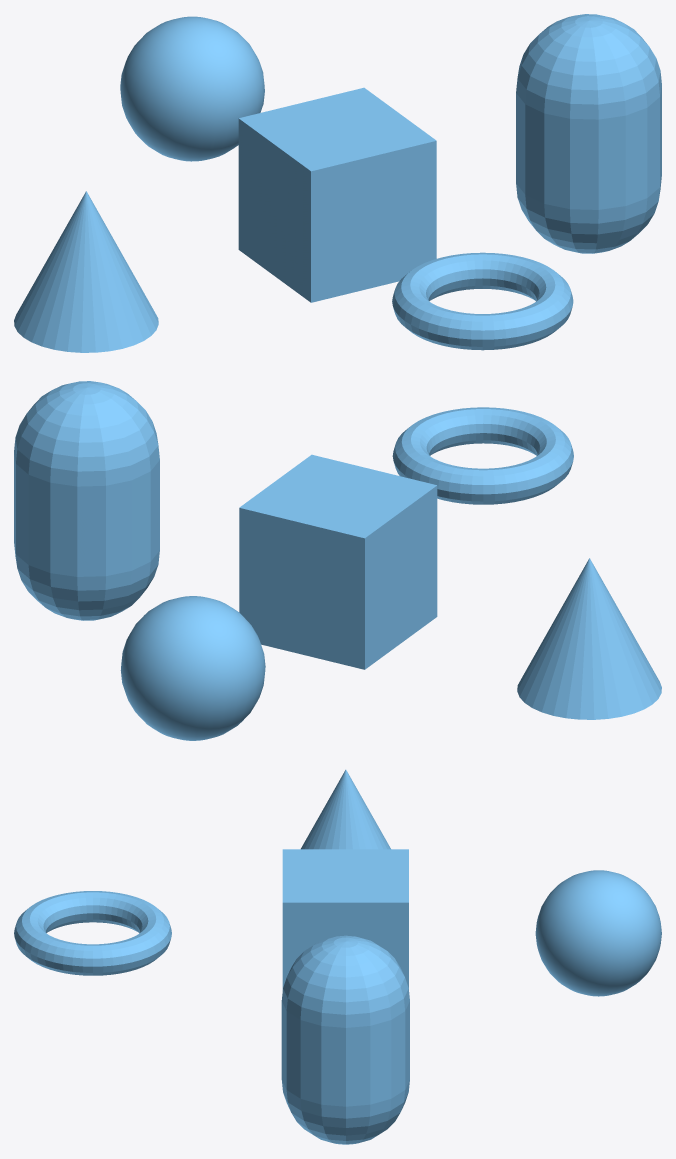
3 views of the same model, one above another, from view 1: azimuth 30°, elevation 25°; view 2: azimuth 150°, elevation 25°; view 3: azimuth 270°, elevation 25° (orthographic). The views are drawn at different scales.
Visible parts, largest first — view 1: SM_Test_Cube-plastic-gbx, SM_Test_Cylinder-plastic-gcp, SM_Test_Icosphere-plastic-gsp, SM_Test_Cone-plastic-gcx, SM_Test_Torus-plastic-gcc; view 2: SM_Test_Cube-plastic-gbx, SM_Test_Cylinder-plastic-gcp, SM_Test_Icosphere-plastic-gsp, SM_Test_Cone-plastic-gcx, SM_Test_Torus-plastic-gcc; view 3: SM_Test_Cylinder-plastic-gcp, SM_Test_Cube-plastic-gbx, SM_Test_Icosphere-plastic-gsp, SM_Test_Torus-plastic-gcc, SM_Test_Cone-plastic-gcx.
Part boxes in pixels (x1=…): SM_Test_Cube-plastic-gbx: x1=238, y1=87, x2=436, y2=302; SM_Test_Cylinder-plastic-gcp: x1=516, y1=14, x2=661, y2=253; SM_Test_Icosphere-plastic-gsp: x1=120, y1=16, x2=264, y2=161; SM_Test_Cone-plastic-gcx: x1=14, y1=191, x2=158, y2=352; SM_Test_Torus-plastic-gcc: x1=392, y1=252, x2=573, y2=350; SM_Test_Cube-plastic-gbx: x1=239, y1=454, x2=437, y2=669; SM_Test_Cylinder-plastic-gcp: x1=14, y1=381, x2=159, y2=620; SM_Test_Icosphere-plastic-gsp: x1=120, y1=596, x2=265, y2=740; SM_Test_Cone-plastic-gcx: x1=517, y1=558, x2=661, y2=719; SM_Test_Torus-plastic-gcc: x1=392, y1=407, x2=573, y2=504; SM_Test_Cylinder-plastic-gcp: x1=281, y1=935, x2=409, y2=1144; SM_Test_Cube-plastic-gbx: x1=282, y1=849, x2=408, y2=989; SM_Test_Icosphere-plastic-gsp: x1=535, y1=870, x2=661, y2=996; SM_Test_Torus-plastic-gcc: x1=14, y1=891, x2=171, y2=975; SM_Test_Cone-plastic-gcx: x1=301, y1=769, x2=390, y2=849.
Size of what is drawn, in the model's own units: 10.01 by 3.44 by 10.25.
